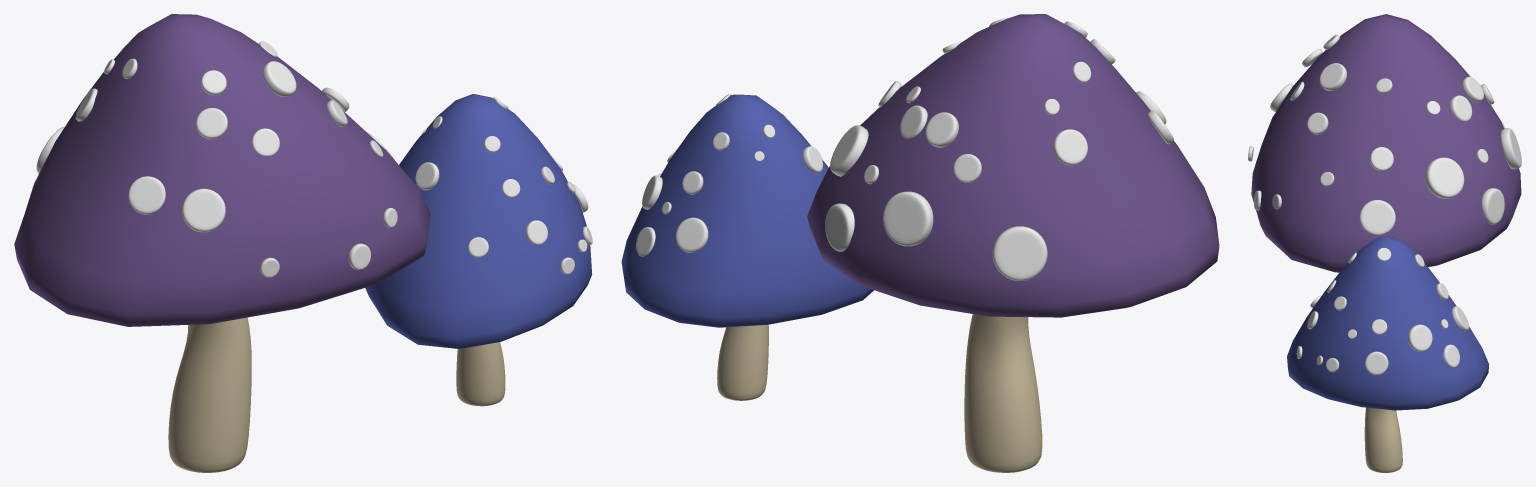
The model's file is Грибы - копия_2.fbx.
3 views of the same model, side by side, from view 1: azimuth 30°, elevation 25°; view 2: azimuth 150°, elevation 25°; view 3: azimuth 270°, elevation 25° (orthographic). The views are drawn at different scales.
Visible parts, largest first — view 1: Cube, Cube.001, Mushroom, Mushroom .001, Cylinder.008, Cylinder.003, Cylinder.001, Cylinder.010, Cylinder; view 2: Cube, Cube.001, Mushroom, Mushroom .001, Cylinder.026, Cylinder.022, Cylinder.005, Cylinder.019, Cylinder.025, Cylinder.018, Cylinder.064, Cylinder.067 (+1 smaller); view 3: Cube, Cube.001, Mushroom .001, Cylinder.005, Cylinder.015, Cylinder.019, Cylinder.022, Cylinder.001, Cylinder.047, Cylinder.002, Cylinder.057, Cylinder.067 (+3 smaller).
Part boxes in pixels (<box>): Cube: <box>14,14,430,326</box>; Cube.001: <box>365,94,592,348</box>; Mushroom: <box>168,317,251,472</box>; Mushroom .001: <box>456,342,505,406</box>; Cylinder.008: <box>182,188,225,232</box>; Cylinder.003: <box>128,176,165,214</box>; Cylinder.001: <box>262,61,296,96</box>; Cylinder.010: <box>196,108,227,139</box>; Cylinder: <box>252,128,279,155</box>; Cube: <box>807,14,1219,317</box>; Cube.001: <box>621,94,873,327</box>; Mushroom: <box>964,314,1042,472</box>; Mushroom .001: <box>717,324,768,400</box>; Cylinder.026: <box>992,226,1047,280</box>; Cylinder.022: <box>883,191,933,246</box>; Cylinder.005: <box>830,125,868,176</box>; Cylinder.019: <box>825,203,854,251</box>; Cylinder.025: <box>1053,129,1087,165</box>; Cylinder.018: <box>925,112,958,147</box>; Cylinder.064: <box>676,217,708,252</box>; Cylinder.067: <box>900,105,927,138</box>; Cube: <box>1251,14,1521,272</box>; Cube.001: <box>1287,236,1489,410</box>; Mushroom .001: <box>1364,407,1402,472</box>; Cylinder.005: <box>1425,157,1464,198</box>; Cylinder.015: <box>1359,200,1395,235</box>; Cylinder.019: <box>1482,188,1504,224</box>; Cylinder.022: <box>1500,128,1521,169</box>; Cylinder.001: <box>1319,63,1346,91</box>; Cylinder.047: <box>1407,324,1432,351</box>; Cylinder.002: <box>1370,147,1393,170</box>; Cylinder.057: <box>1365,351,1388,374</box>; Cylinder.067: <box>1450,95,1472,121</box>.
Size of the model in its own units: 478 by 374 by 272.
